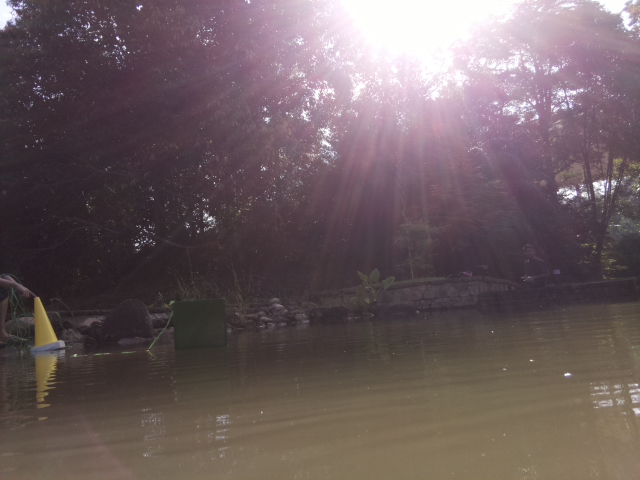checkpoint: (31, 294, 67, 353)
obstacle: (171, 298, 230, 349)
